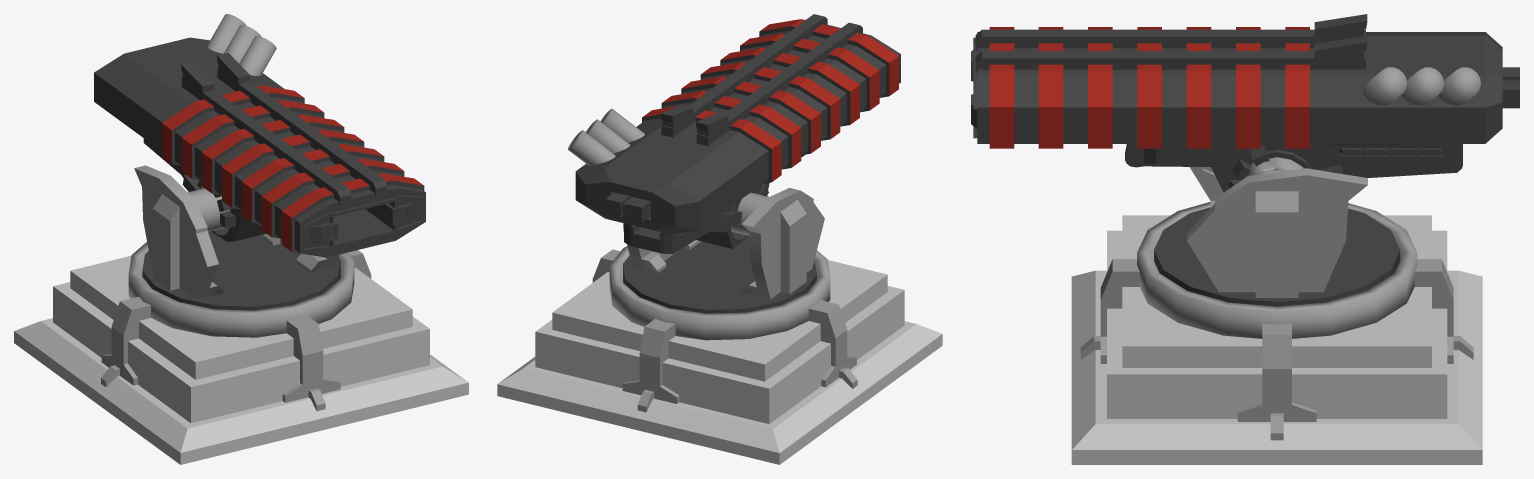
Rendered from canon-vr-turret.glb.
3 renders of one model, left to right at view 1: azimuth 30°, elevation 25°; view 2: azimuth 150°, elevation 25°; view 3: azimuth 270°, elevation 25°, orthographic. The views are drawn at different scales.
Parts seen in each view (by area): view 1: Cube.004, Cube.001, Cube.003, Cube.002, Cube.000; view 2: Cube.004, Cube.001, Cube.003, Cube.002, Cube.000; view 3: Cube.004, Cube.001, Cube.003, Cube.002, Cube.000.
Part boxes in pixels (bbox=[...]): Cube.004: bbox=[14, 250, 468, 464]; Cube.001: bbox=[94, 37, 425, 257]; Cube.003: bbox=[134, 165, 340, 310]; Cube.002: bbox=[128, 242, 354, 337]; Cube.000: bbox=[207, 14, 276, 76]; Cube.004: bbox=[497, 249, 942, 464]; Cube.001: bbox=[575, 14, 900, 254]; Cube.003: bbox=[623, 188, 824, 313]; Cube.002: bbox=[609, 246, 830, 340]; Cube.000: bbox=[568, 108, 644, 165]; Cube.004: bbox=[1071, 215, 1482, 464]; Cube.001: bbox=[971, 14, 1519, 192]; Cube.003: bbox=[1154, 167, 1400, 306]; Cube.002: bbox=[1137, 202, 1417, 338]; Cube.000: bbox=[1193, 67, 1480, 182].
Size of the model in its own units: 3.33 by 3.13 by 4.45.
